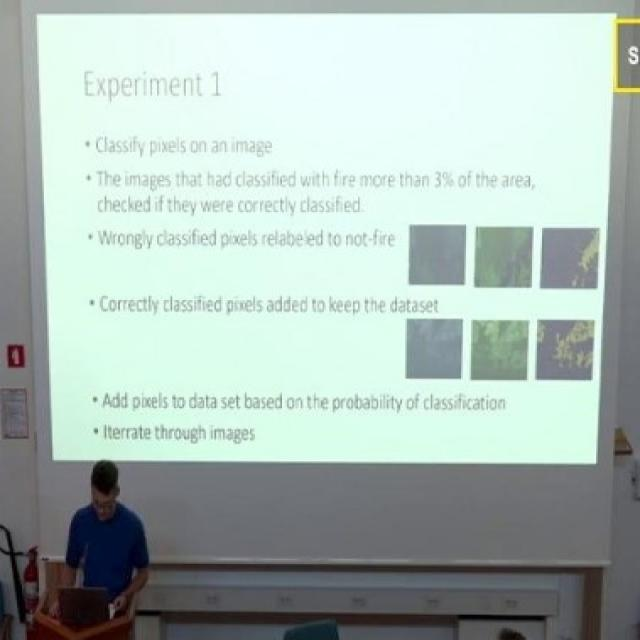Instructor: (44, 451, 164, 634)
Slide: (34, 12, 616, 468)
